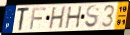3: (101, 4, 116, 29)
F: (29, 7, 48, 30)
H: (48, 6, 67, 30), (65, 5, 83, 30)
S: (84, 4, 101, 29)
T: (16, 6, 31, 32)
